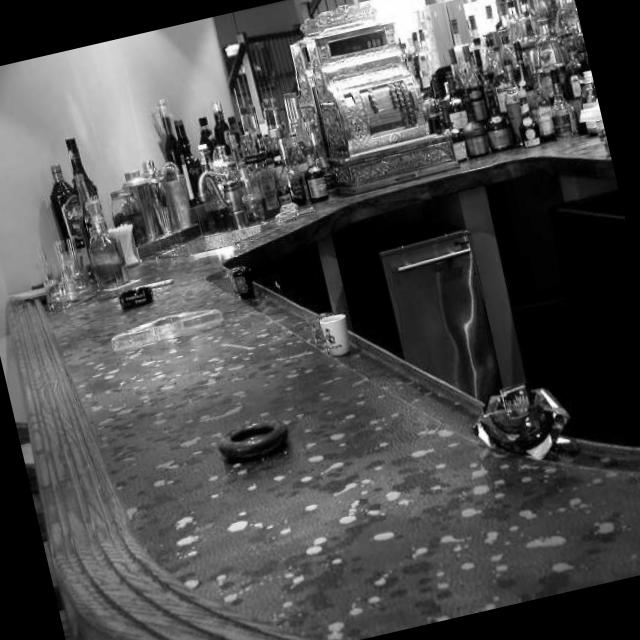2006: (333, 0, 517, 103)
ashtray: (110, 305, 222, 352), (214, 416, 286, 457), (120, 285, 154, 308)
bar stool: (6, 65, 640, 640)
bottle crop: (47, 159, 89, 248), (459, 95, 490, 157), (485, 92, 515, 152), (549, 78, 576, 139), (515, 87, 541, 147), (304, 146, 329, 199)
cash register: (287, 20, 454, 195)
floor -X: (21, 440, 69, 640)
glass ceiling: (317, 313, 351, 354)
glasses -X: (37, 235, 93, 305)
handrail: (224, 0, 359, 149)
wall clock: (0, 18, 242, 443), (214, 0, 587, 146)
